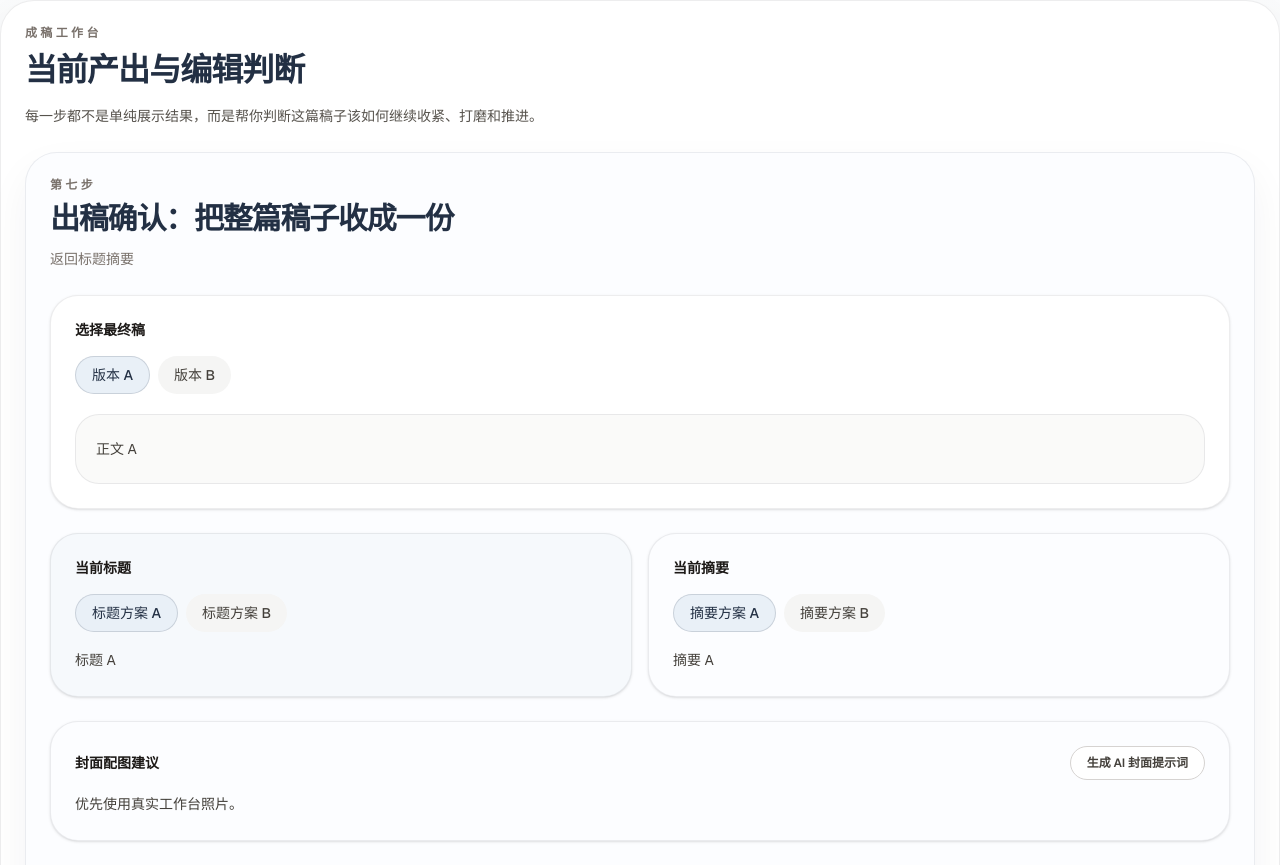
Test case: FinalStage › lets the user go back to the title and summary step
This screenshot has width=1280, height=865.
Expected: the button "版本 A" is shown, [75,356,150,394]
Click the button "返回标题摘要": {"x": 92, "y": 259} [50,249,134,269]
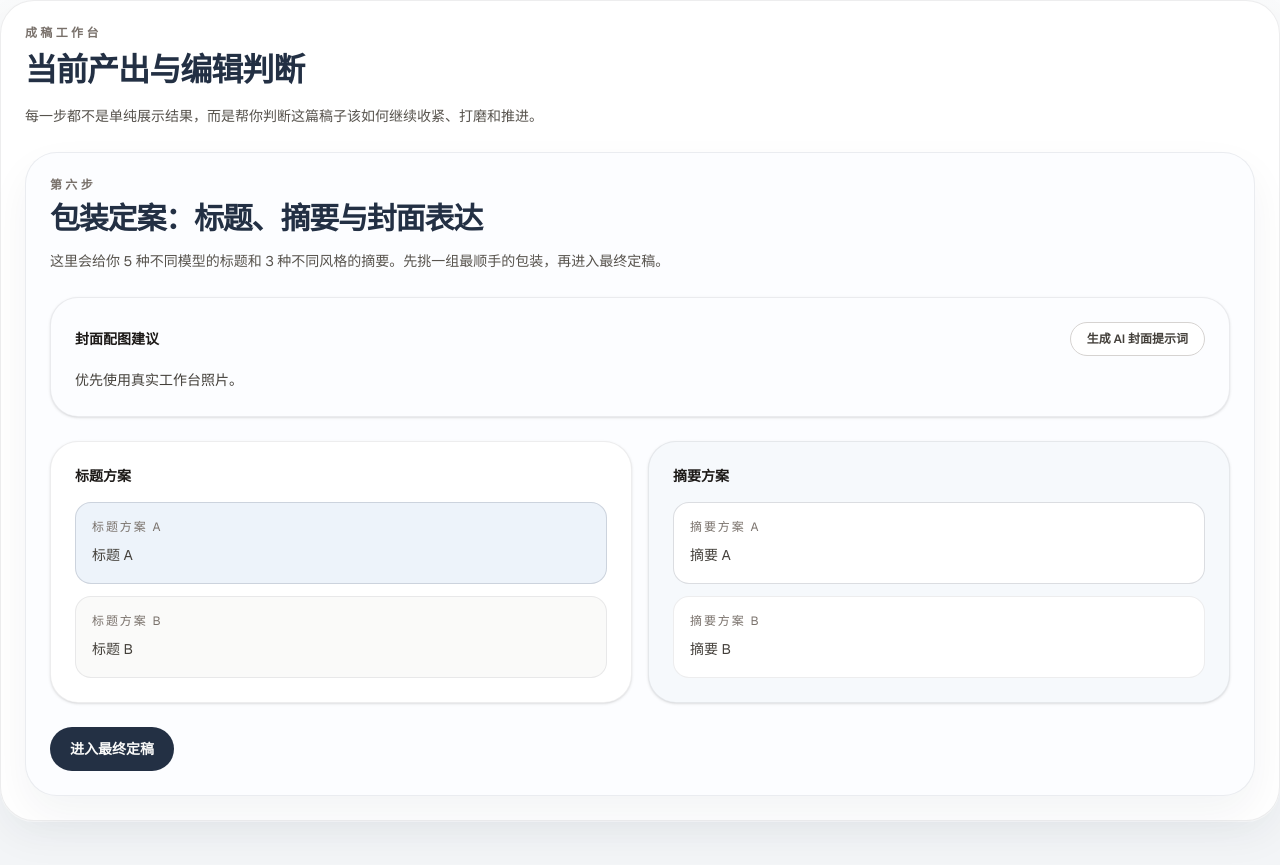
Expected: the heading "包装定案：标题、摘要与封面表达" is shown, [50,199,482,238]
